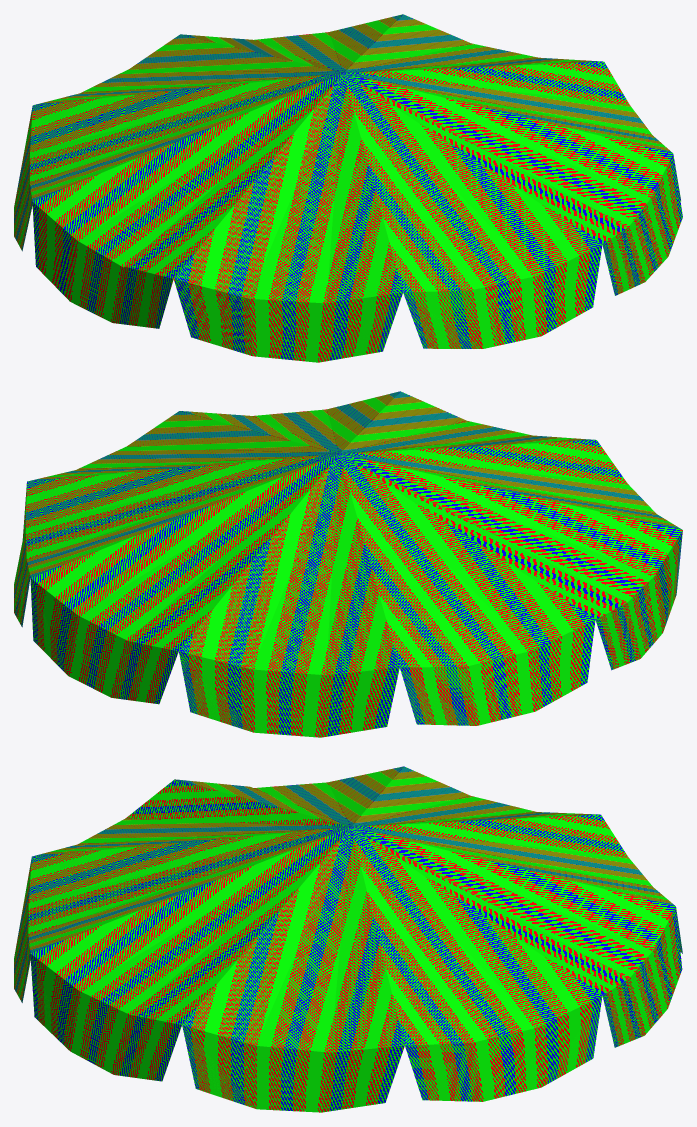
Rendered from parasolHorizontal.fbx.
3 views of the same model, one above another, from view 1: azimuth 30°, elevation 25°; view 2: azimuth 150°, elevation 25°; view 3: azimuth 270°, elevation 25° (orthographic).
Parts seen in each view (by area): view 1: ParasolHorizontal; view 2: ParasolHorizontal; view 3: ParasolHorizontal.
Boxes of the visible parts, x1=… form: ParasolHorizontal: x1=14, y1=14, x2=682, y2=362; ParasolHorizontal: x1=14, y1=391, x2=682, y2=737; ParasolHorizontal: x1=14, y1=766, x2=682, y2=1112.
Size of the model in its own units: 232 by 56.15 by 231.
